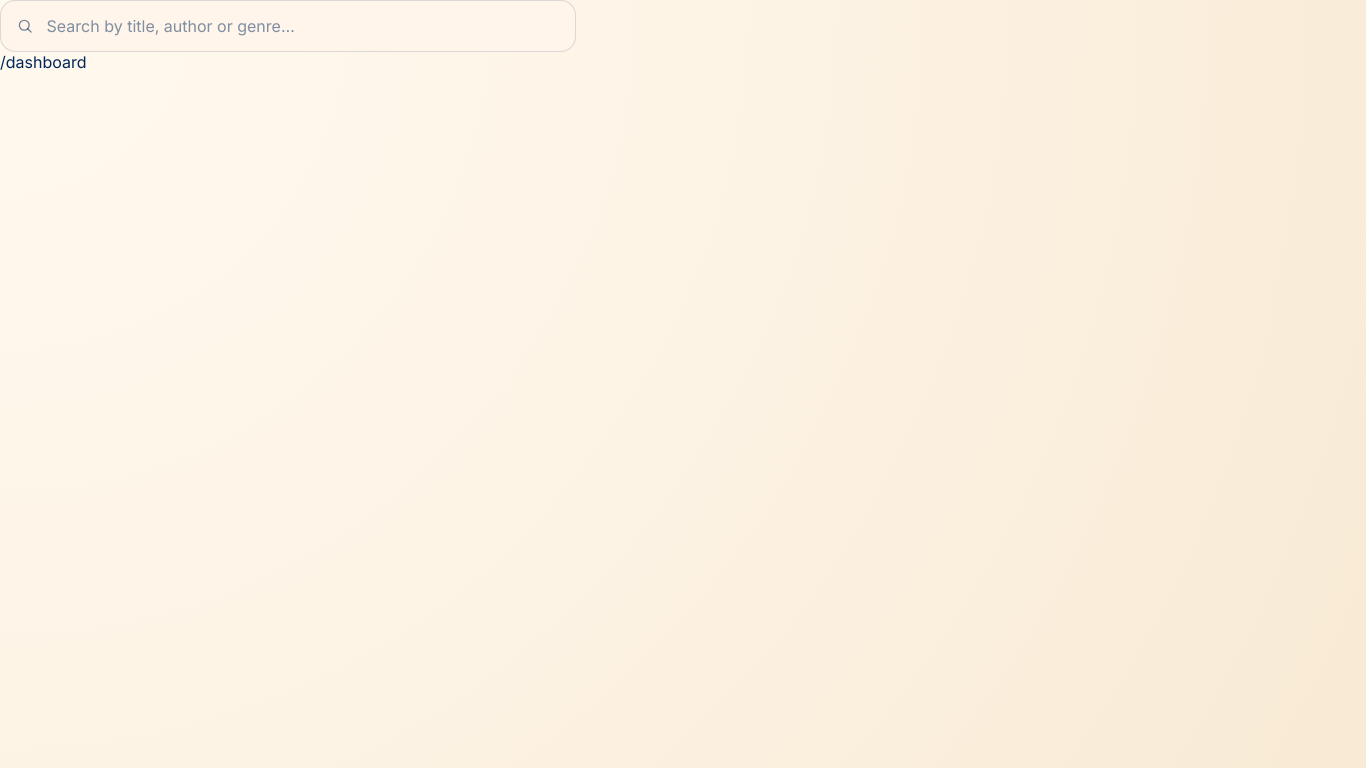
it: SearchSuggest › suggests readers and opens their profile
This screenshot has width=1366, height=768.
Type "nat" into the dropdown named "Search the archive" at (288, 26), box x1=0 y1=0 x2=576 y2=52
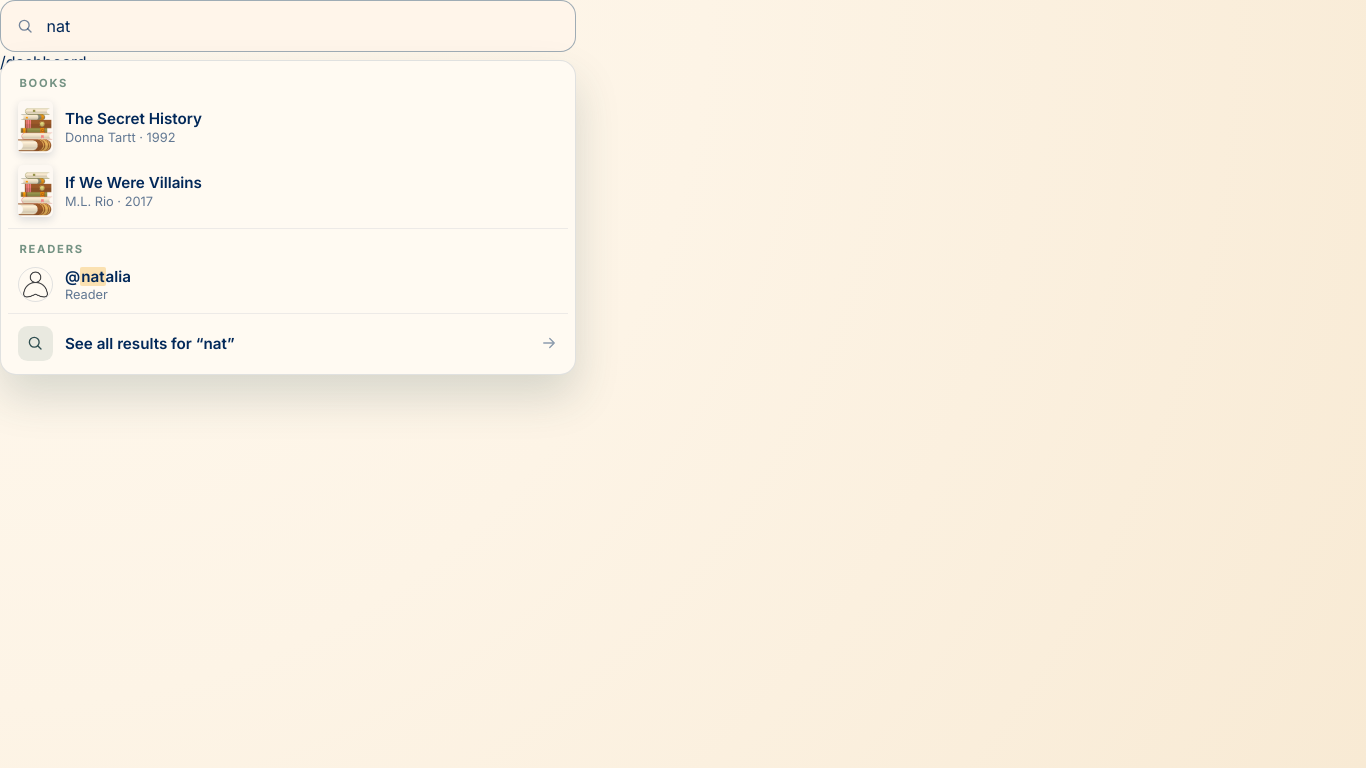
Click the option "@natalia Reader" at (74, 284), box x1=18 y1=267 x2=131 y2=302
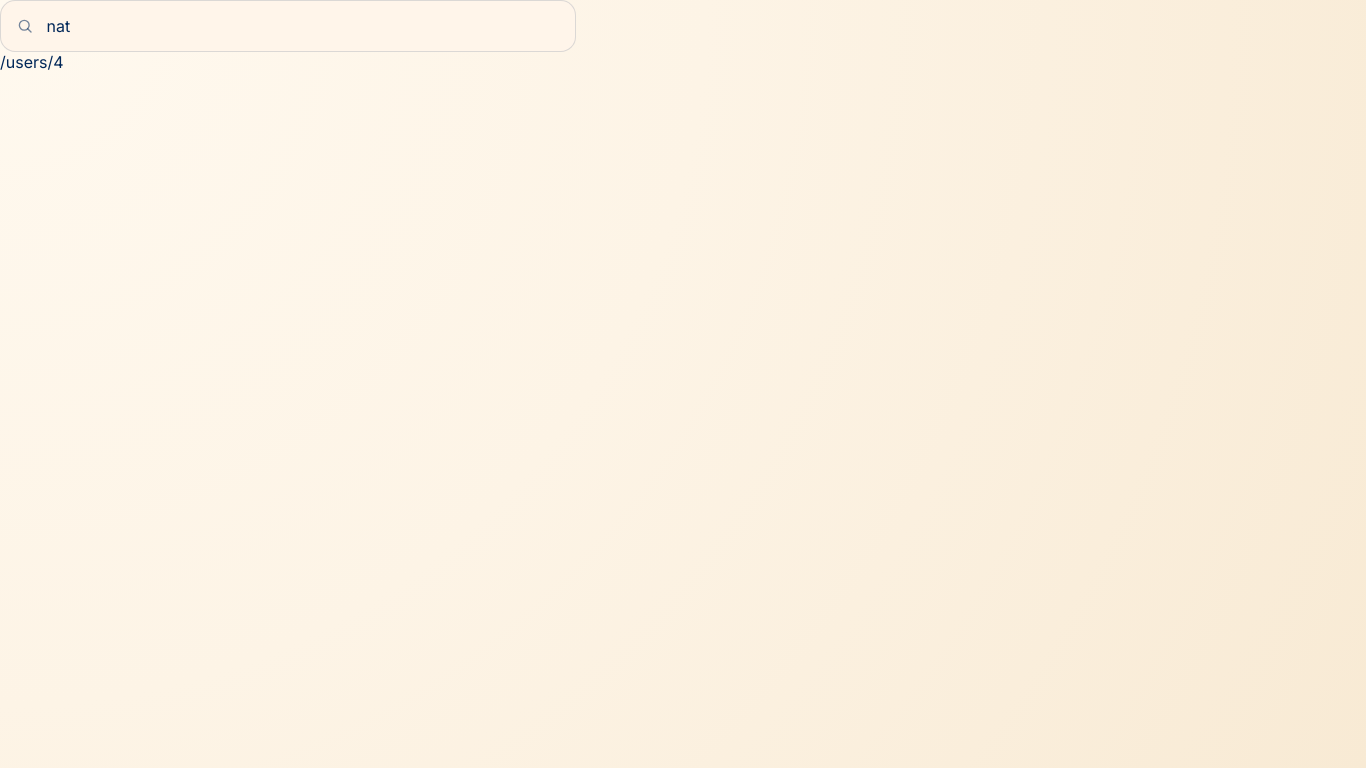
Check: the text with test id "where" reads "/users/4", box x1=0 y1=52 x2=64 y2=72
